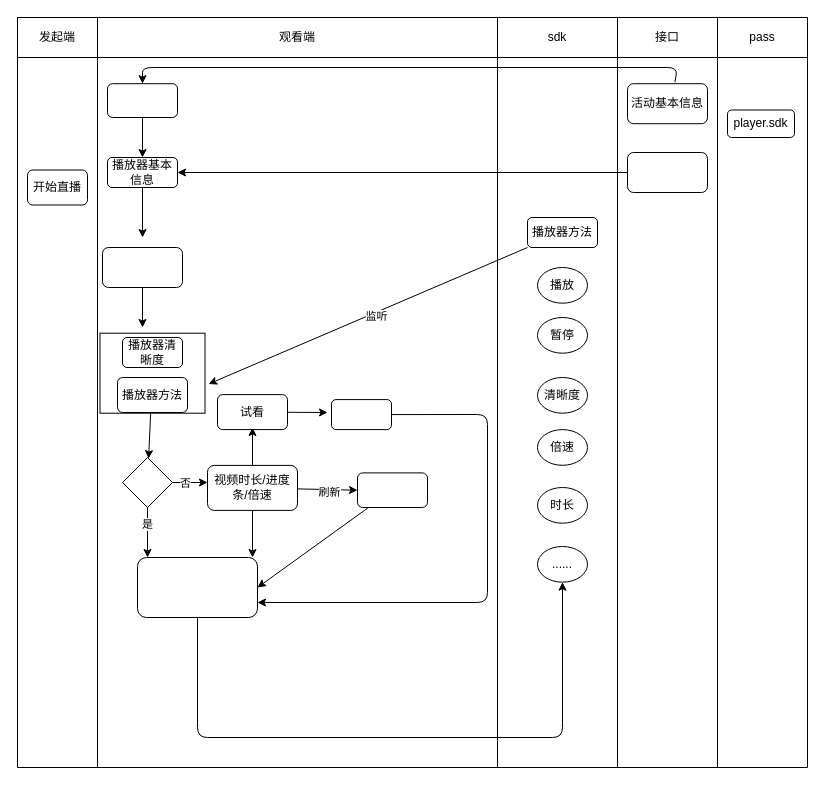
The diagram is 825 pixels wide and 785 high, and some of its shapes have lost their labels. Here are the shapes that lost their labels. From the top down, the centre of each, then its label:
At (142,100): "判断直播 /回放".
At (667,172): "获取播放器基本设置信息".
At (142,267): "初始化播放器".
At (361,414): "权限验证".
At (147,482): "直播？".
At (392,490): "记录当前播放时间".
At (197,587): "播放器播放".
